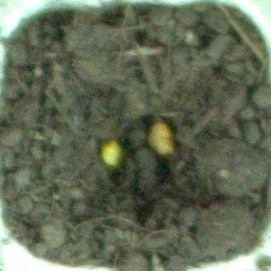pepper seed: (56, 41, 234, 199), (35, 54, 162, 223)
